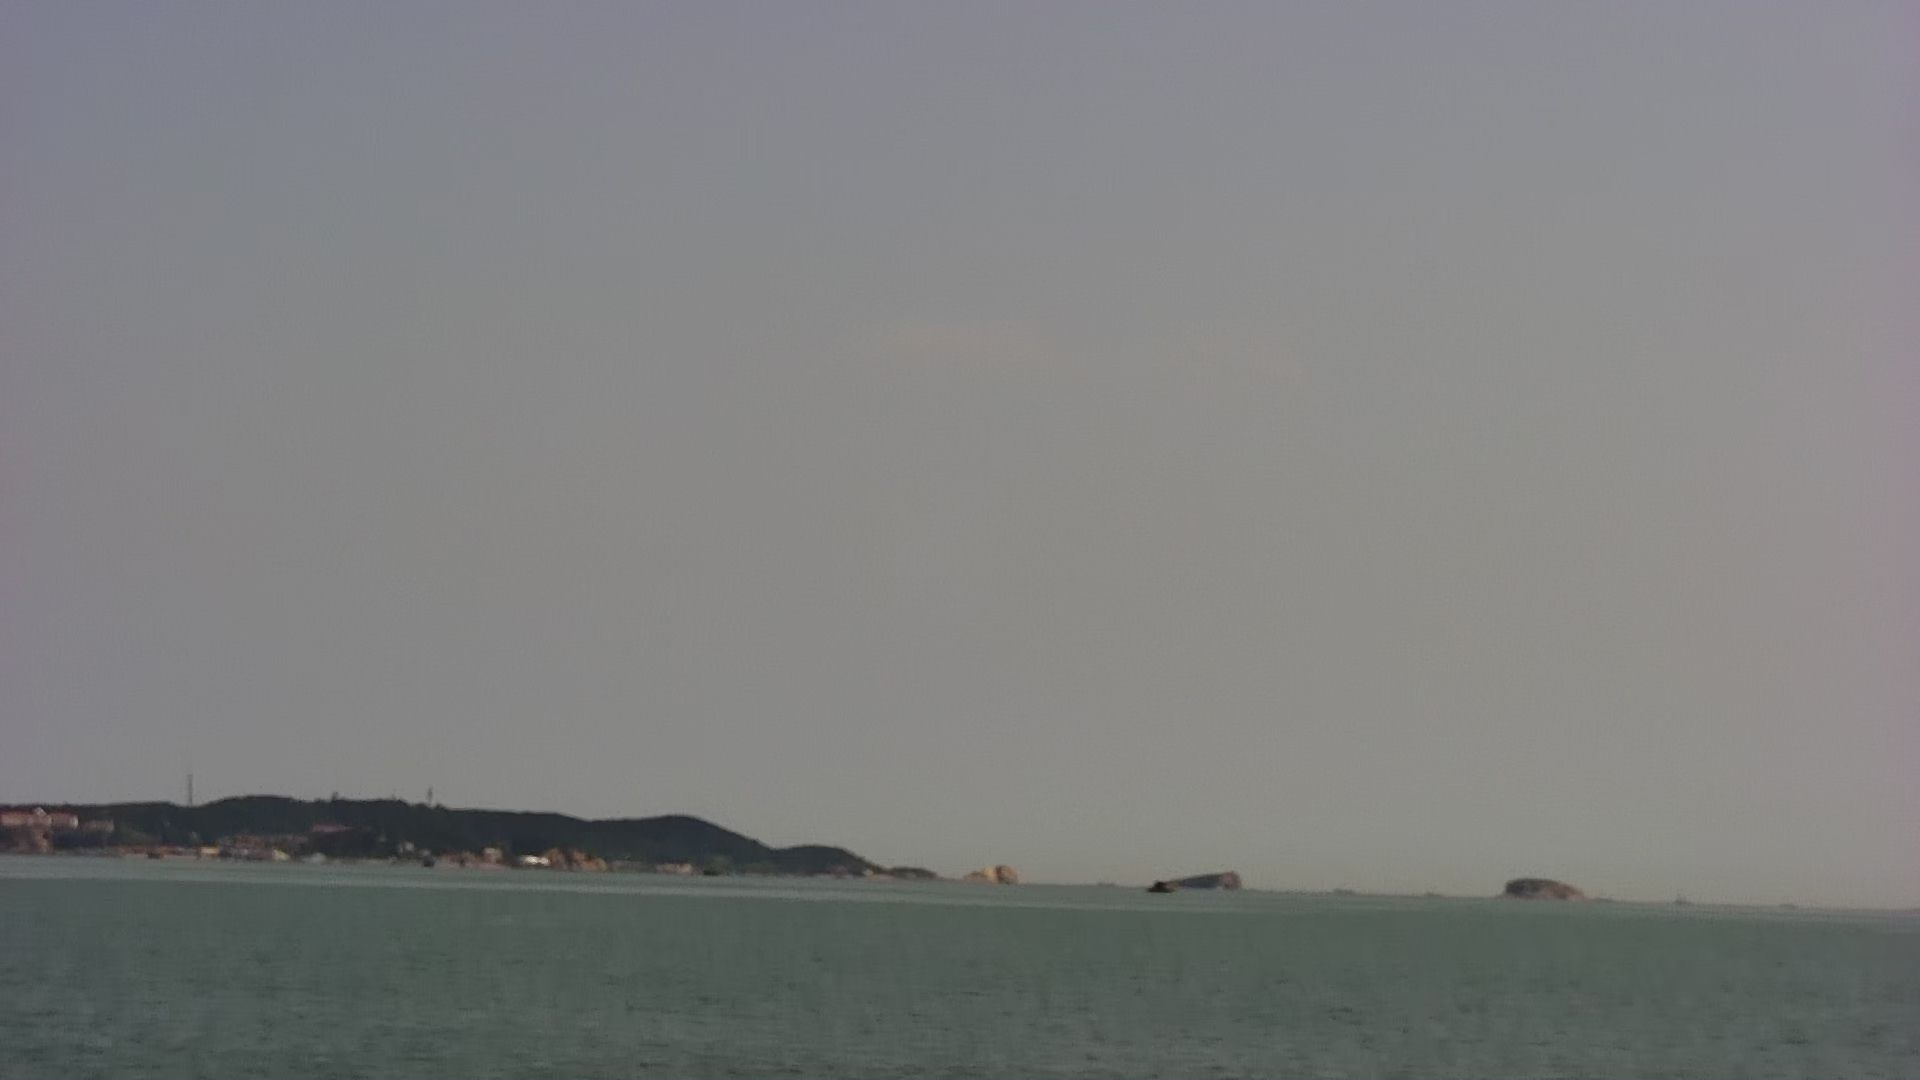rock: (1139, 861, 1245, 893), (1495, 878, 1601, 901)
